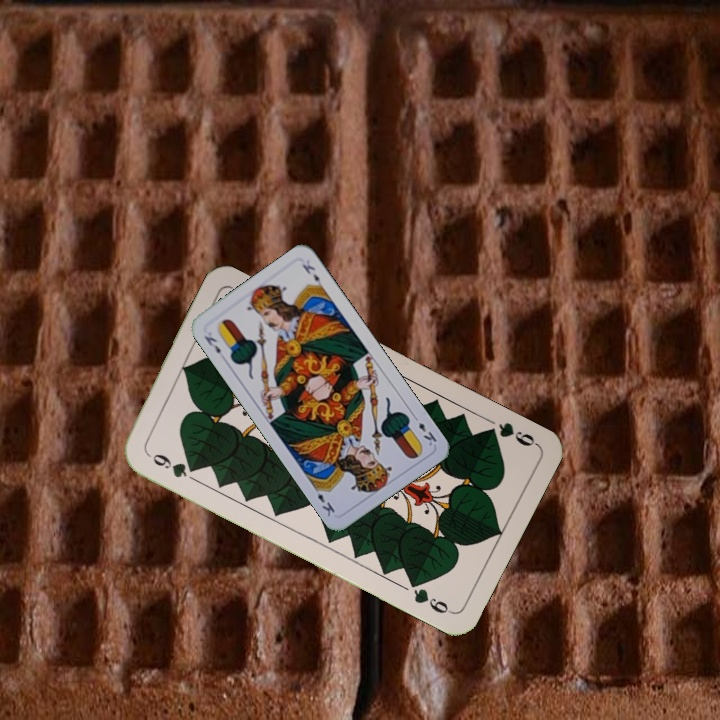EK: (409, 411, 439, 449), (200, 331, 223, 356)
G9: (142, 447, 200, 481), (480, 418, 540, 449)
